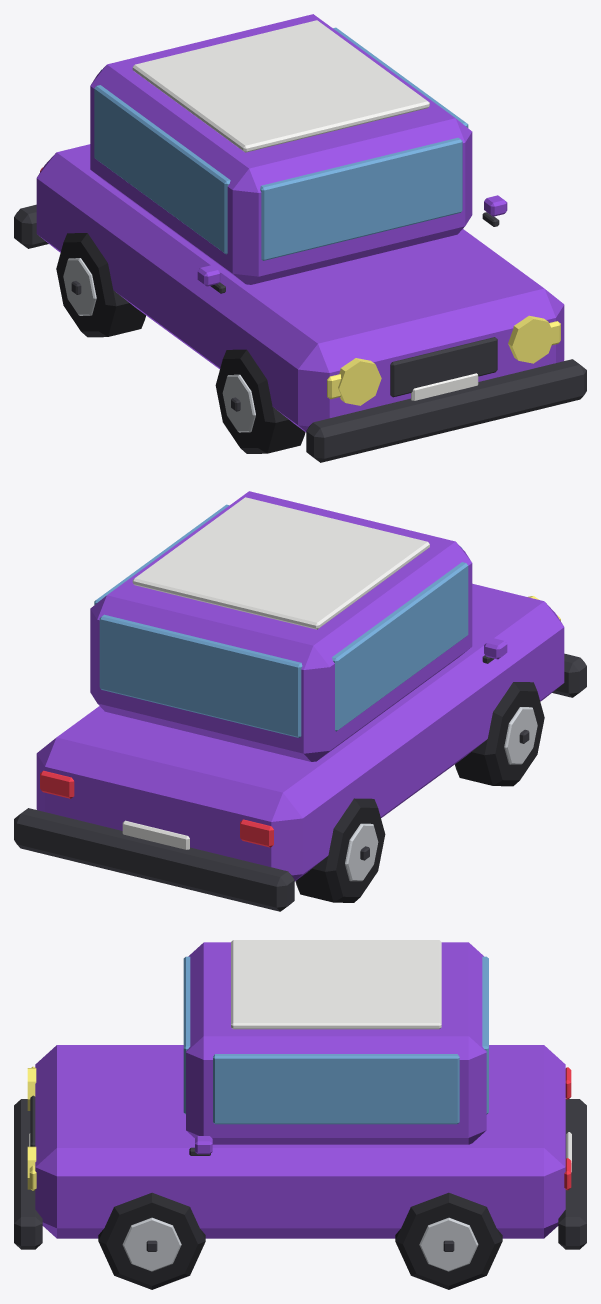
The model's file is PurpleCompactCar.fbx.
The picture shows the model from 3 angles, top to bottom: view 1: azimuth 30°, elevation 25°; view 2: azimuth 150°, elevation 25°; view 3: azimuth 270°, elevation 25°; orthographic projection. The views are drawn at different scales.
Visible parts, largest first — view 1: PurpleCompactCar, PurpleCompactCar_WheelFR, PurpleCompactCar_WheelBR; view 2: PurpleCompactCar, PurpleCompactCar_WheelBR, PurpleCompactCar_WheelFR; view 3: PurpleCompactCar, PurpleCompactCar_WheelBL, PurpleCompactCar_WheelFL.
Part boxes in pixels (x1,y1,x2,y2): PurpleCompactCar: (14,14,586,462); PurpleCompactCar_WheelFR: (215,349,305,453); PurpleCompactCar_WheelBR: (56,233,145,337); PurpleCompactCar: (14,491,586,911); PurpleCompactCar_WheelBR: (295,798,385,902); PurpleCompactCar_WheelFR: (455,682,544,786); PurpleCompactCar: (14,940,586,1249); PurpleCompactCar_WheelBL: (395,1192,502,1289); PurpleCompactCar_WheelFL: (98,1192,205,1289).
Size of the model in its own units: 4.55 by 3.82 by 8.
Materials: 1 (1 with a texture image).
